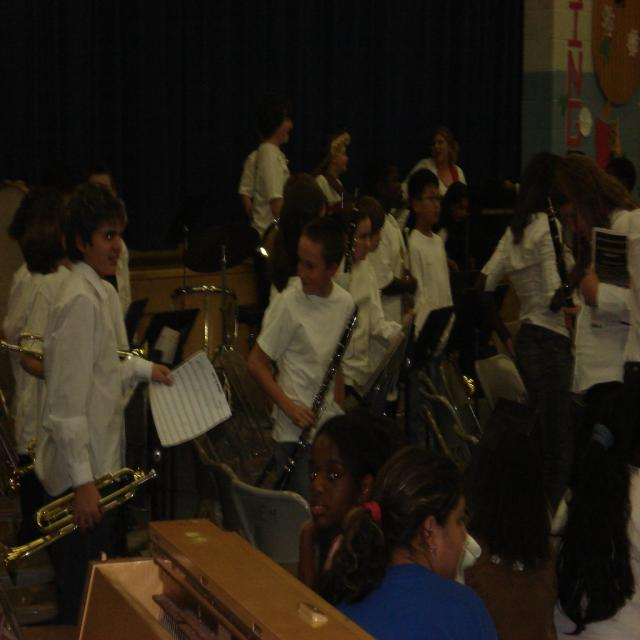clarinet: (273, 299, 361, 482), (539, 193, 573, 290), (341, 198, 359, 272)
